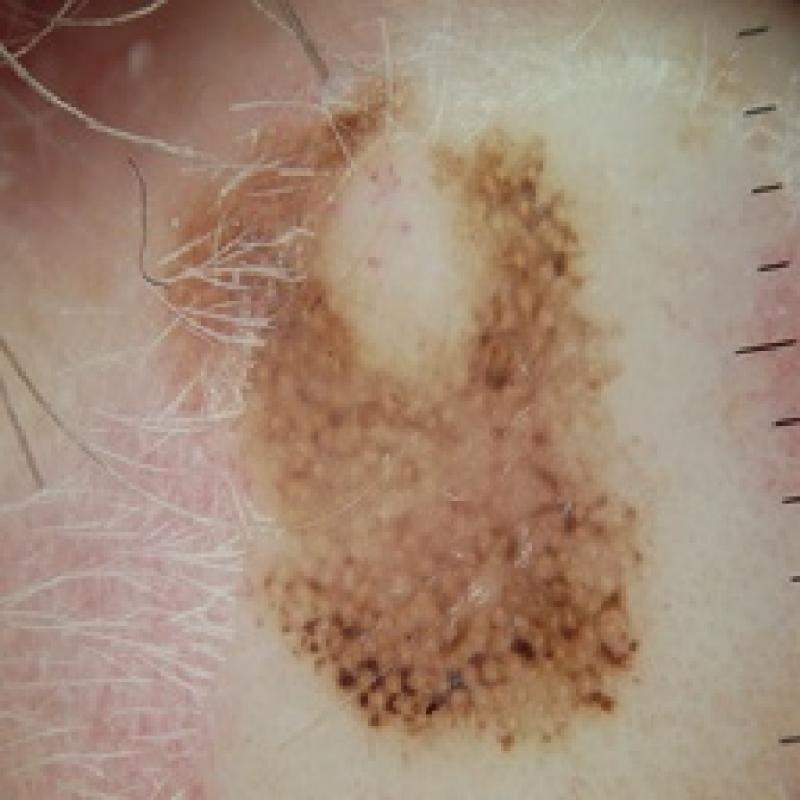malignant: (153, 75, 665, 752)
